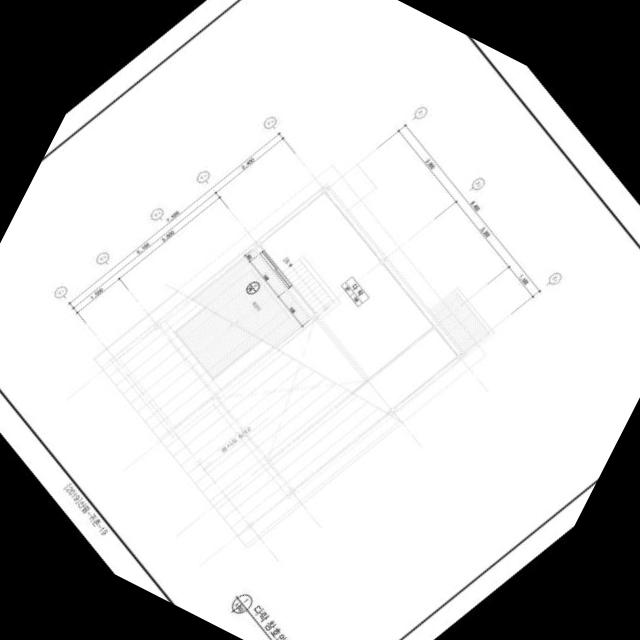background: (0, 0, 640, 640)
space_other: (260, 193, 432, 378)
space_staircase: (282, 259, 334, 317)
